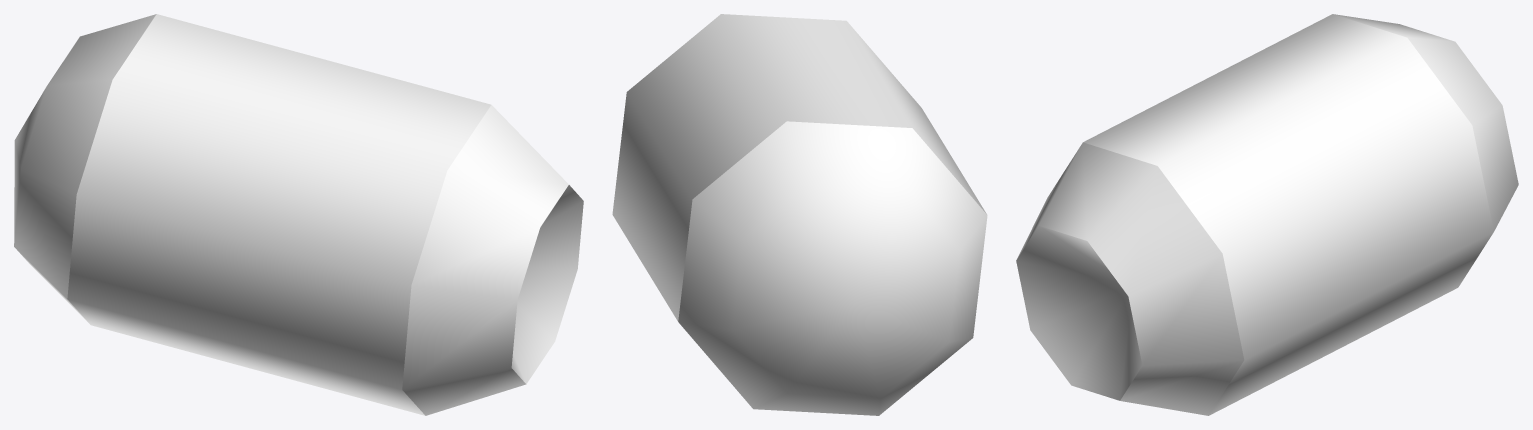
Rendered from ama_collectable_scrap_02.glb.
3 renders of one model, left to right at view 1: azimuth 30°, elevation 25°; view 2: azimuth 150°, elevation 25°; view 3: azimuth 270°, elevation 25°, orthographic. The views are drawn at different scales.
Visible parts, largest first — view 1: shipScrapPart_02; view 2: shipScrapPart_02; view 3: shipScrapPart_02.
Part boxes in pixels (x1,y1,x2,y2): shipScrapPart_02: [14, 14, 583, 415]; shipScrapPart_02: [612, 14, 987, 415]; shipScrapPart_02: [1016, 14, 1518, 415].
Size of the model in its own units: 1.21 by 0.8682 by 1.32.
1 material, 1 textured.
